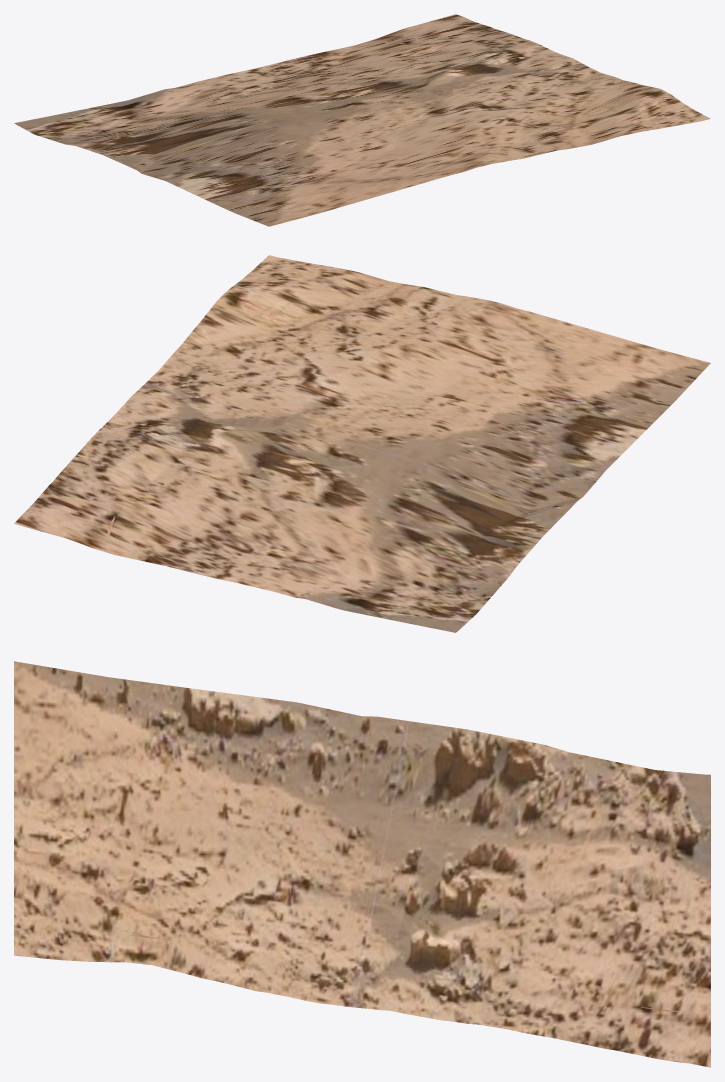
3 views of the same model, one above another, from view 1: azimuth 30°, elevation 25°; view 2: azimuth 150°, elevation 25°; view 3: azimuth 270°, elevation 25° (orthographic). The views are drawn at different scales.
Bounding box in the file's own units: 1.04 × 0.2191 × 1.04.
Materials: 2 (2 with a texture image).
